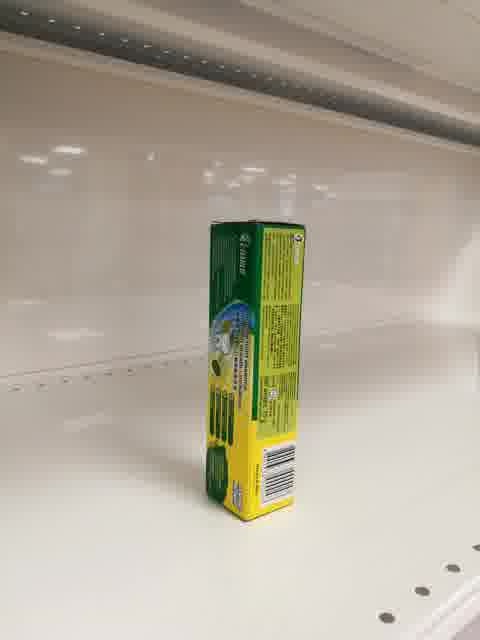toothpaste: (205, 221, 307, 524)
